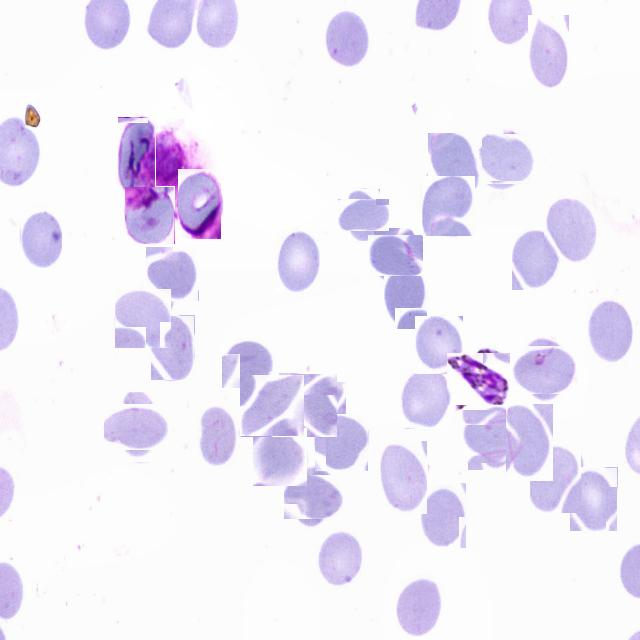red blood cell: (240, 374, 304, 436), (530, 440, 581, 513), (506, 404, 553, 481), (464, 407, 524, 467), (380, 440, 428, 514), (544, 197, 598, 262), (110, 398, 168, 456), (114, 289, 172, 347), (586, 298, 634, 367), (516, 341, 574, 398), (526, 15, 568, 91), (428, 133, 482, 192), (422, 176, 475, 236), (400, 368, 452, 429), (476, 132, 532, 188), (253, 428, 307, 486), (178, 168, 222, 239), (396, 572, 444, 637), (570, 468, 618, 532), (383, 261, 428, 329), (421, 482, 467, 548), (222, 336, 278, 390), (286, 378, 342, 432), (512, 228, 560, 290), (314, 416, 369, 470), (146, 246, 199, 301), (125, 186, 175, 244), (324, 6, 370, 69), (151, 315, 195, 380), (118, 117, 156, 191), (415, 316, 463, 374), (276, 230, 320, 292), (317, 529, 364, 587), (288, 471, 340, 523), (198, 405, 238, 469), (21, 208, 62, 268), (371, 232, 419, 280), (343, 194, 385, 236)
schizont: (450, 350, 508, 408)
